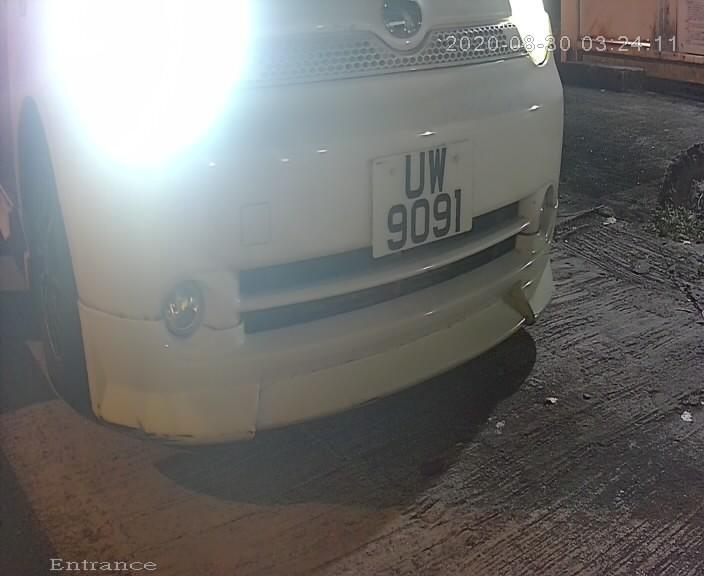License Plate: (375, 121, 481, 276)
